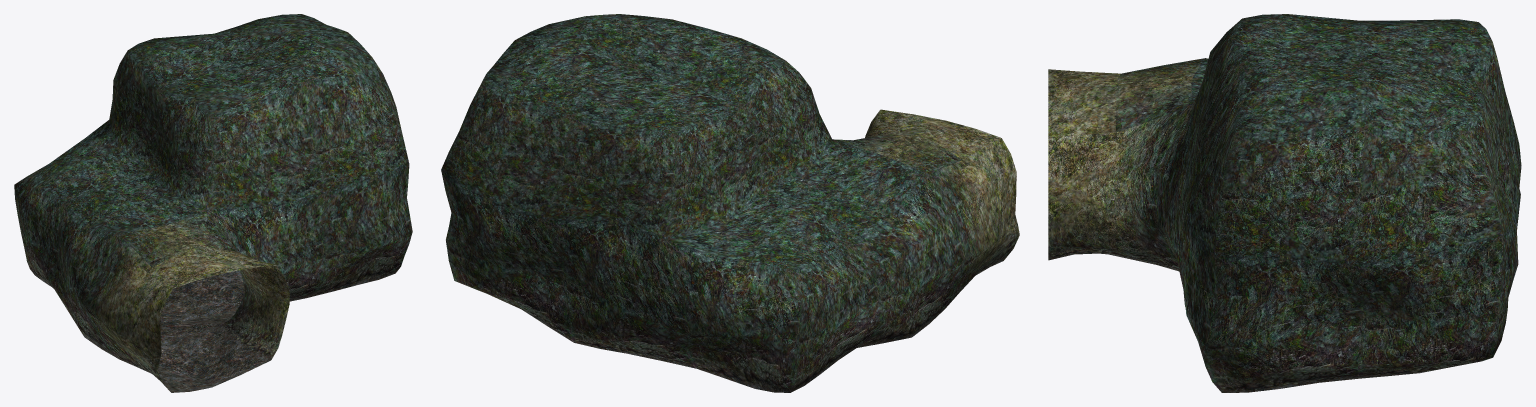
The model's file is thm_all_cave_s02_damprock_mirror_r11_mesh_r11.fbx.
The picture shows the model from 3 angles, left to right: view 1: azimuth 30°, elevation 25°; view 2: azimuth 150°, elevation 25°; view 3: azimuth 270°, elevation 25°; orthographic projection. The views are drawn at different scales.
Visible parts, largest first — view 1: mesh_node; view 2: mesh_node; view 3: mesh_node.
Boxes of the visible parts, box(x1,y1,x2,y2) form: mesh_node: box(14, 14, 412, 392); mesh_node: box(441, 14, 1019, 392); mesh_node: box(1048, 14, 1521, 392).
Bounding box in the file's own units: 32.88 × 20.28 × 28.87.
